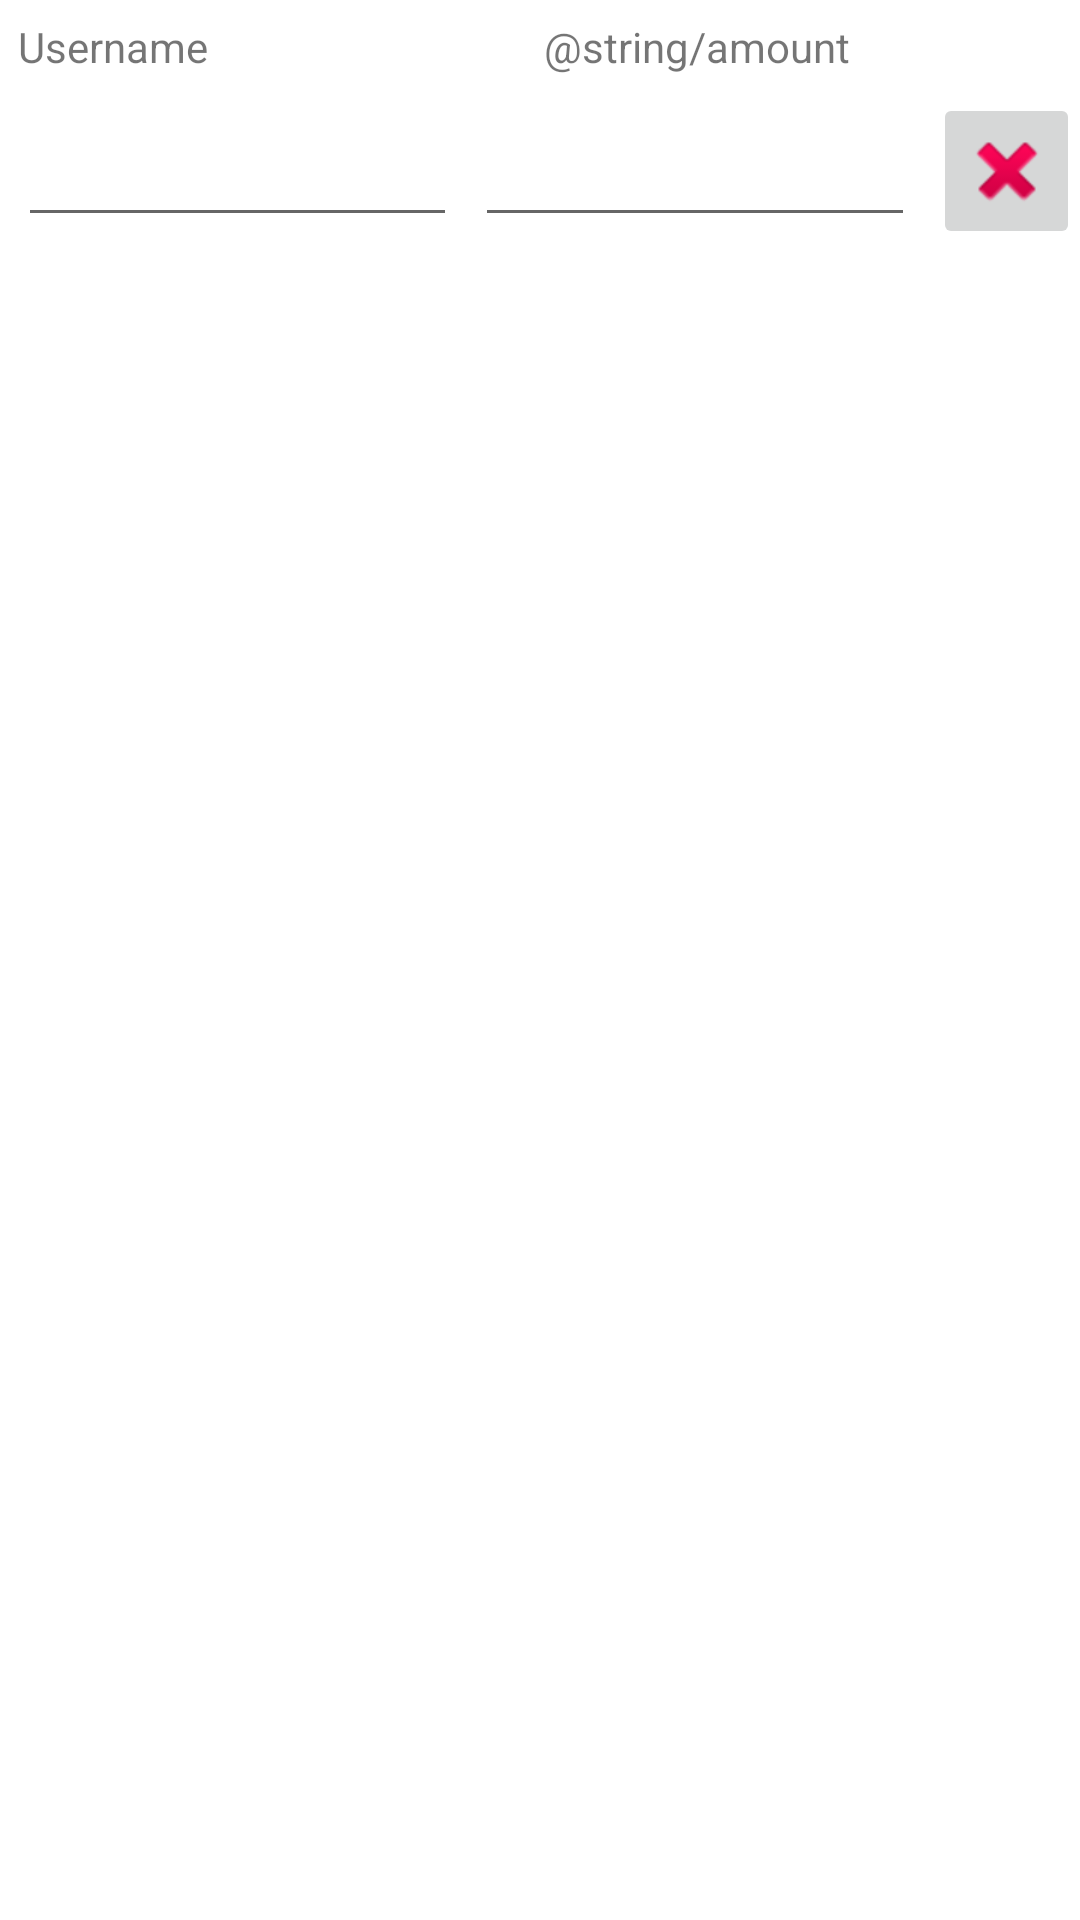

Icons on this 1080*1920 Android screen, each with its box as detection(x1, y1, x2, y2):
delete: detection(945, 111, 1068, 231)
